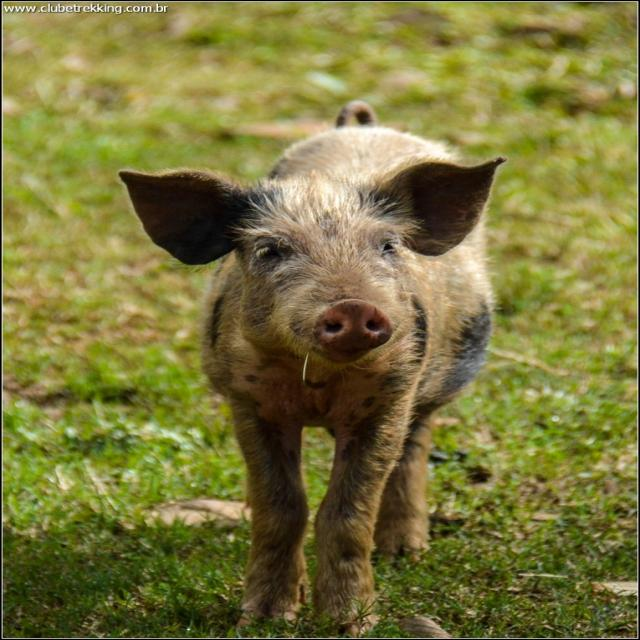Pig: (118, 101, 507, 638)
